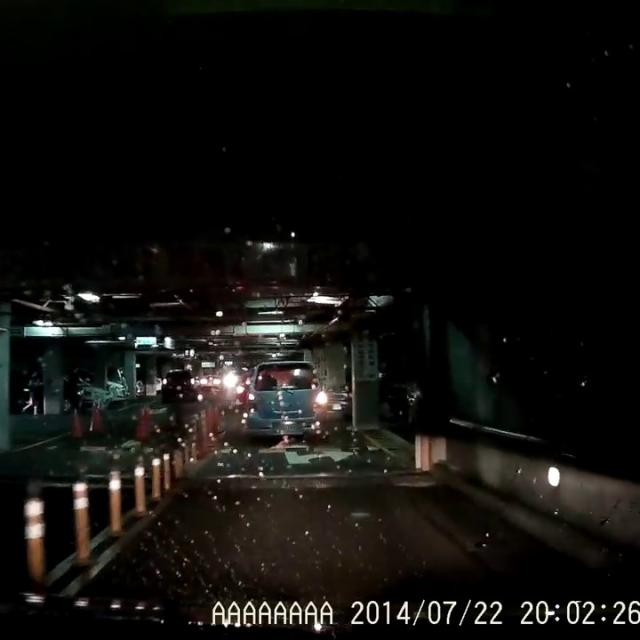Car: (238, 359, 328, 436), (158, 368, 196, 402)
